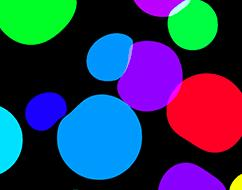cell: (58, 95, 142, 179), (166, 75, 242, 152), (117, 42, 183, 112), (0, 0, 76, 44), (170, 0, 218, 50), (87, 35, 132, 79), (158, 162, 226, 190), (27, 93, 67, 131), (134, 0, 191, 17), (230, 173, 242, 190)
